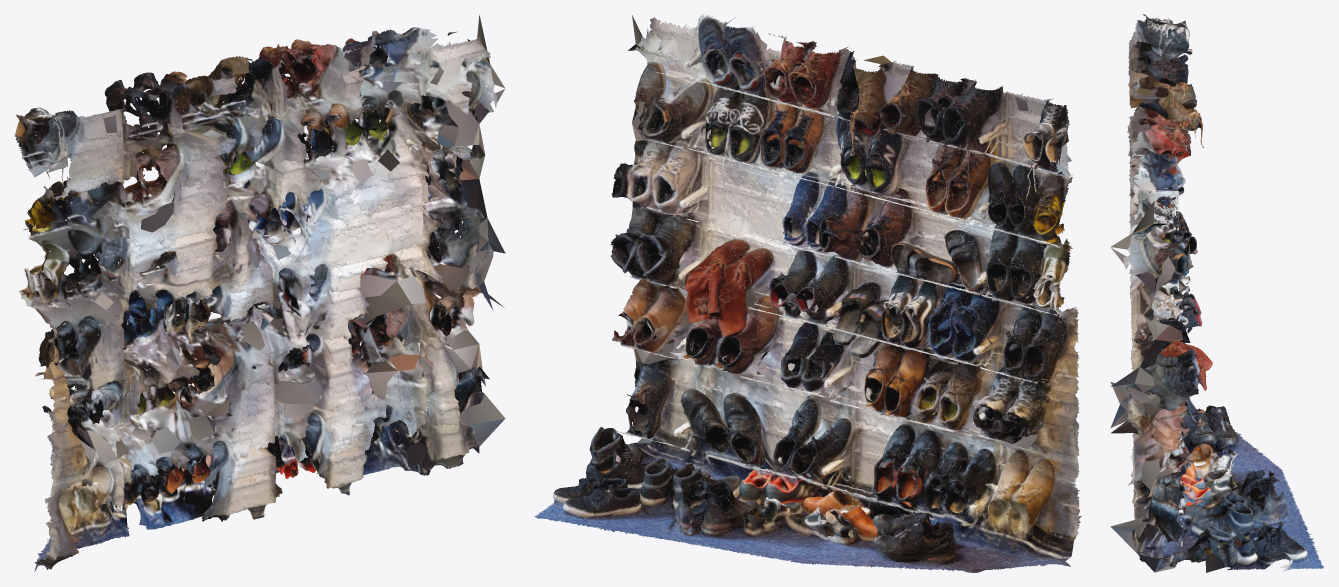
File: shoes-v1.glb
3 renders of one model, left to right at view 1: azimuth 30°, elevation 25°; view 2: azimuth 150°, elevation 25°; view 3: azimuth 270°, elevation 25°, orthographic. The views are drawn at different scales.
Parts seen in each view (by area): view 1: Object_6, Object_7, Object_8, Object_5, Object_3, Object_4, Object_2, Object_9; view 2: Object_4, Object_7, Object_6, Object_5, Object_3, Object_8, Object_2, Object_9; view 3: Object_7, Object_4, Object_8, Object_5, Object_6, Object_3, Object_2, Object_9.
Boxes of the visible parts, x1,y1,x2,y2 form: Object_6: (18, 31, 493, 560); Object_7: (21, 14, 505, 560); Object_8: (16, 34, 497, 473); Object_5: (14, 28, 490, 543); Object_3: (18, 27, 494, 474); Object_4: (17, 30, 492, 554); Object_2: (15, 27, 480, 540); Object_9: (34, 29, 489, 571); Object_4: (554, 17, 1078, 568); Object_7: (534, 15, 1080, 572); Object_6: (552, 26, 1081, 572); Object_5: (580, 14, 1079, 570); Object_3: (552, 15, 1078, 516); Object_8: (555, 27, 1077, 516); Object_2: (592, 16, 1078, 572); Object_9: (575, 20, 1078, 571); Object_7: (1110, 54, 1324, 572); Object_4: (1128, 20, 1306, 572); Object_8: (1123, 16, 1298, 568); Object_5: (1128, 16, 1285, 566); Object_6: (1128, 16, 1320, 562); Object_3: (1120, 15, 1307, 571); Object_2: (1127, 14, 1287, 554); Object_9: (1126, 67, 1288, 565).
Size of the model in its own units: 1.9 by 1.87 by 0.9338.
1 material, 1 textured.
